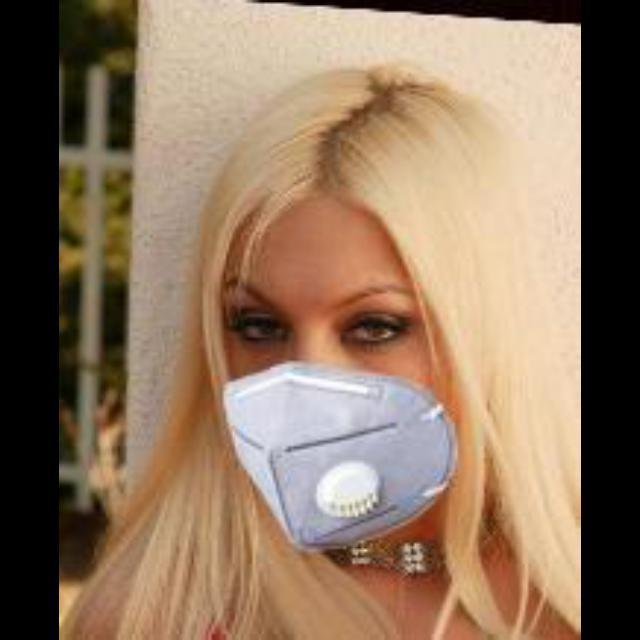suspicion: (202, 226, 486, 554)
